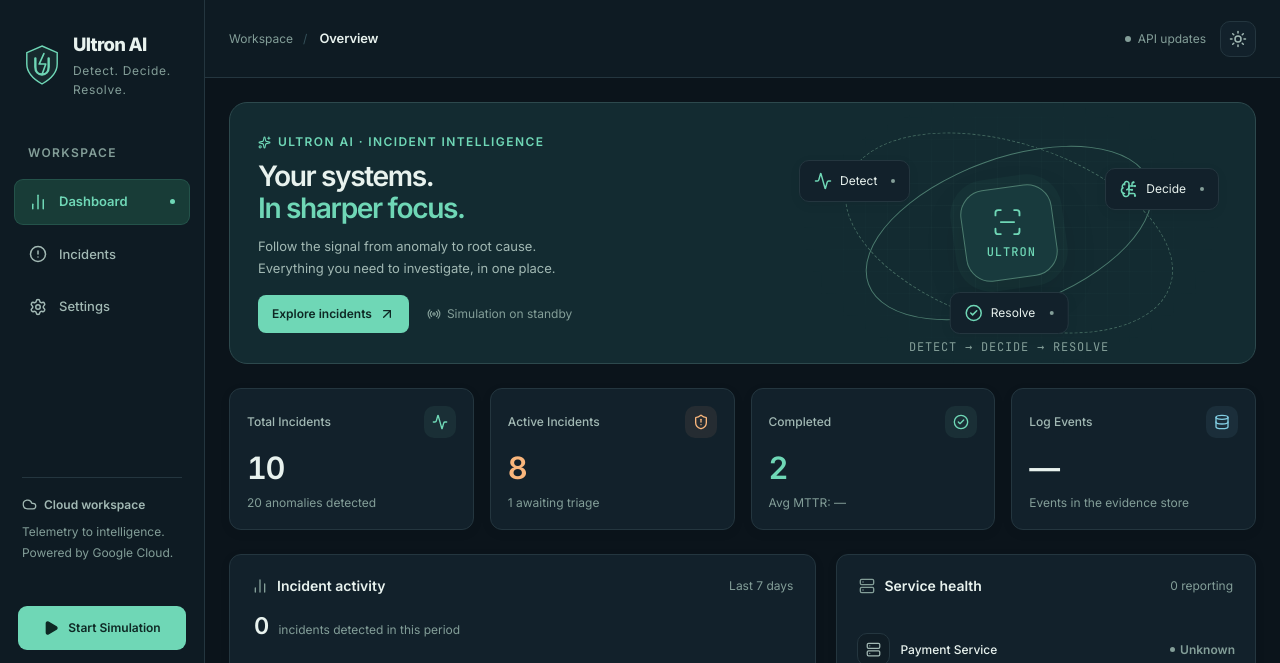
App › filters the loaded queue and restores it when search is cleared
Click the button "Incidents" at (102, 254), box 14,232 -> 190,277
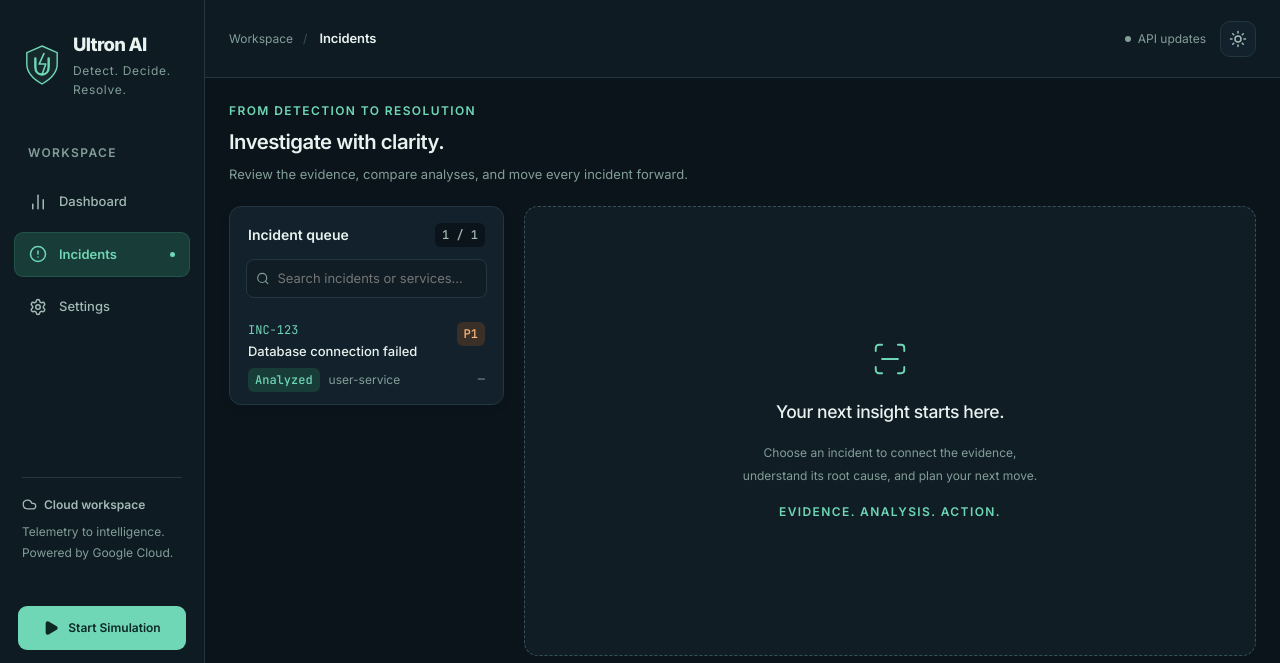
Type "no-matching-service" into the field labelled "Search incidents" at (377, 279), box 278,266 -> 477,291
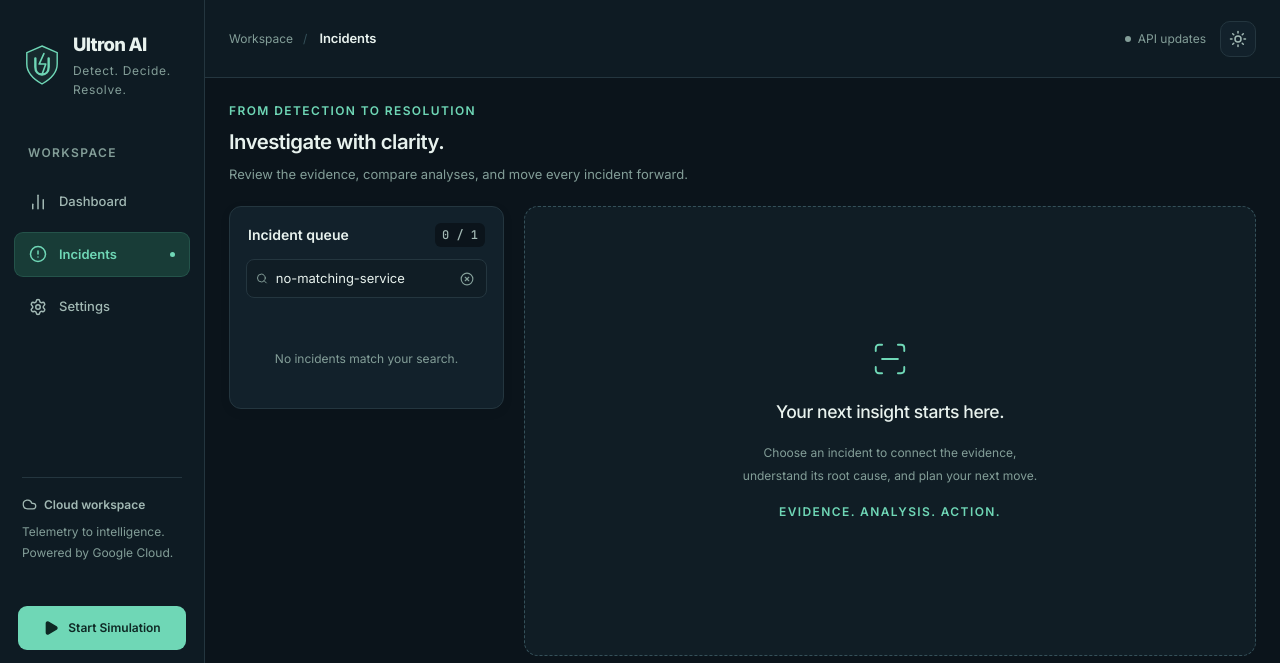
Check: the text "No incidents match your search." is shown, box 275,351 -> 458,366
Check: the button "Database connection failed" is gone
Click the button named "Clear search" at (467, 279), box 457,269 -> 477,289
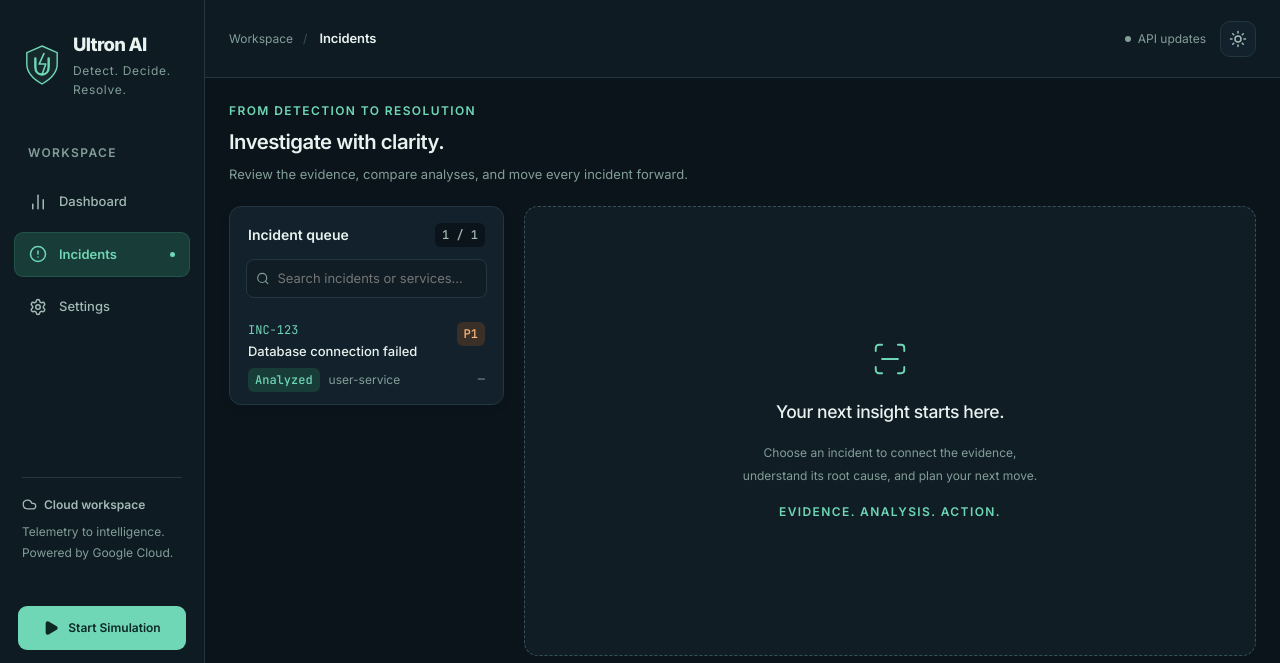
Check: the text "Database connection failed" is shown, box 248,343 -> 417,359
